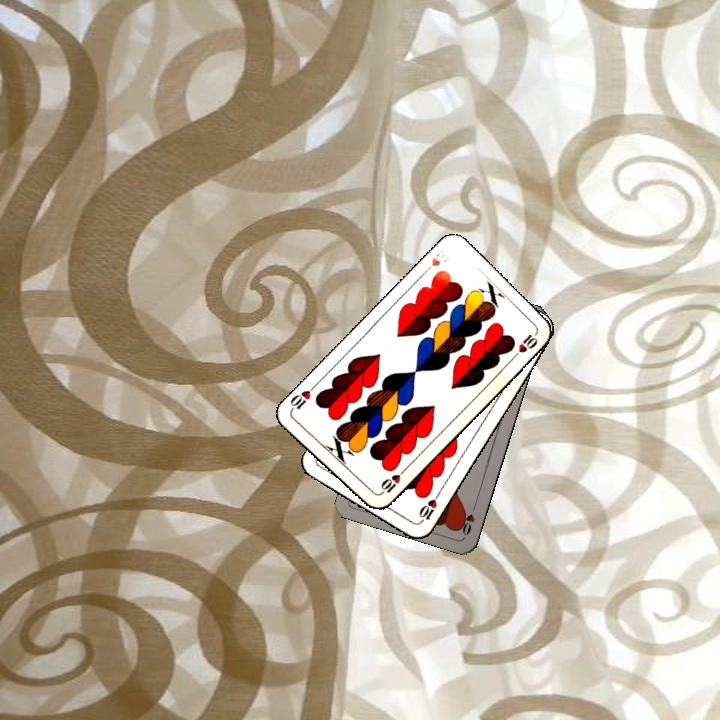H10: (419, 246, 453, 277), (375, 466, 407, 498), (415, 488, 442, 525)
HO: (456, 499, 479, 538)
